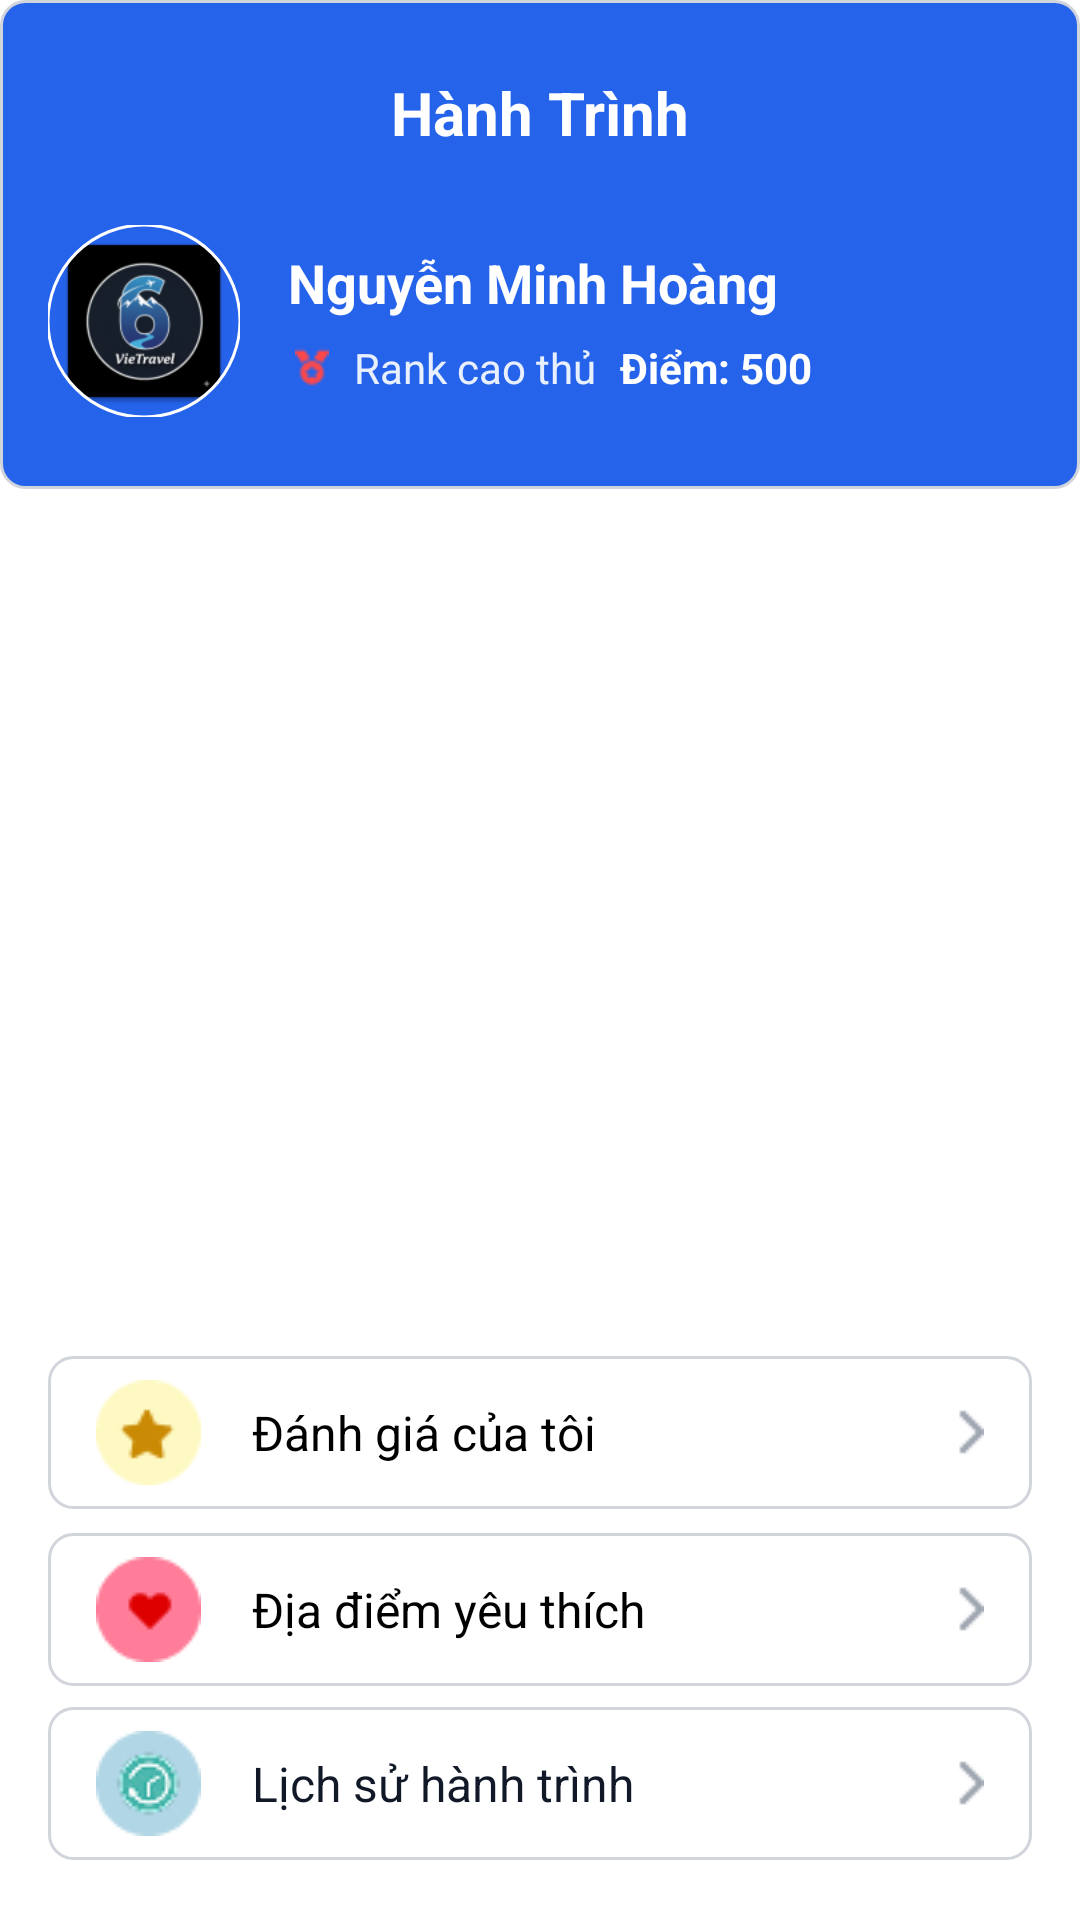

Point at icon controls on the screen. Image size 1080*1920, points as (x,y).
journey arrow: (971,1432), (971,1609), (971,1783)
journey favoritelocation: (148,1609)
journey historyjourney: (148,1783)
journey myevaluation: (148,1432)
journey rankmaster: (312,367)
